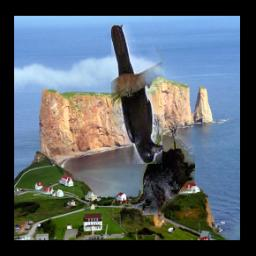Crow: (111, 25, 162, 165), (128, 115, 195, 216)
